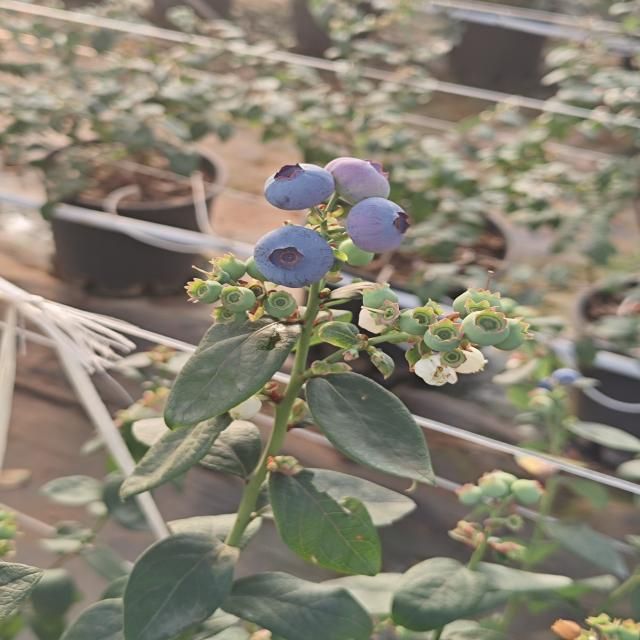ripe: (248, 223, 336, 287), (263, 161, 334, 219), (341, 200, 414, 252)
